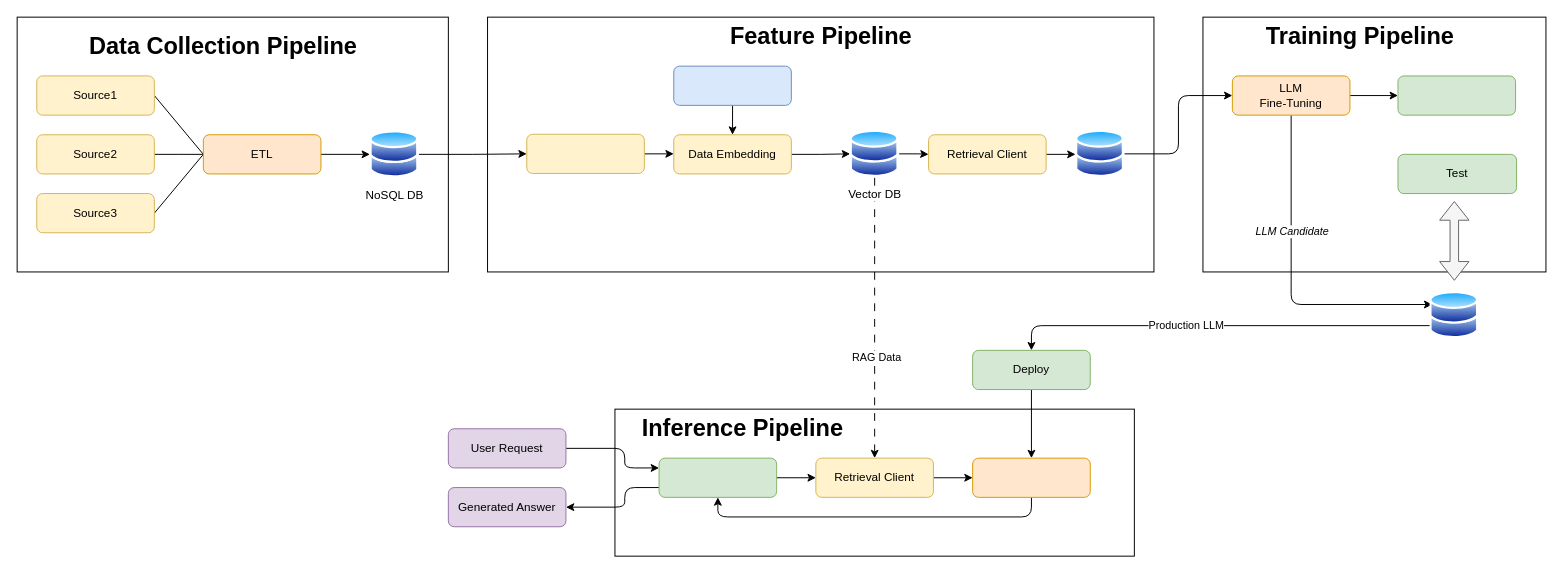
The diagram is 1563 pixels wide and 573 high, and some of its shapes have lost their labels. The shapes that lost their labels are listed below. From the top down, each one's centre as x and y in pixels, then its label:
At [732,85]: "Embedding Model".
At [1456,95]: "Tracker".
At [585,153]: "Data Cleaning/Chunking".
At [1099,153]: "Instruct Dataset".
At [1453,315]: "Model Registry".
At [717,477]: "Rest API".
At [1031,477]: "LLM".
